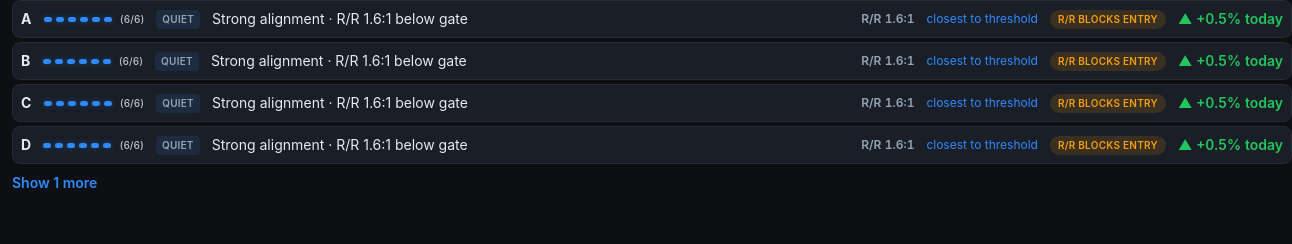
Test: DashboardOpportunityListSection › previewCount hides extra rows until expand
Expected: the list item with test id "dashboard-opportunity-row-A" is shown, [12,0,1291,38]
Click the button with test id "test-expand": click(55, 182) [12,172,97,193]
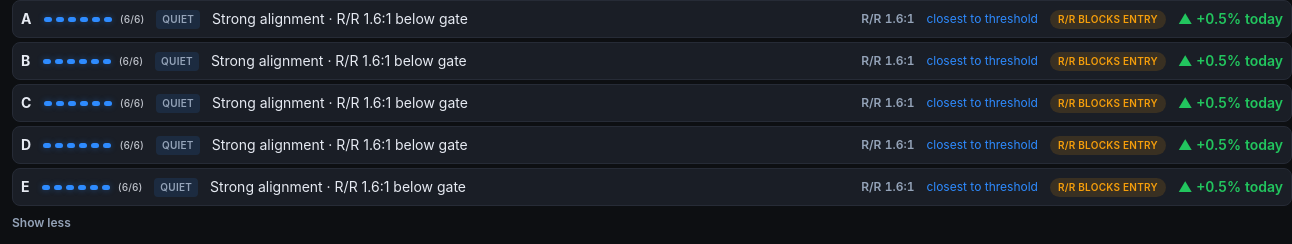
Expected: the list item with test id "dashboard-opportunity-row-E" is shown, [12,168,1291,206]
